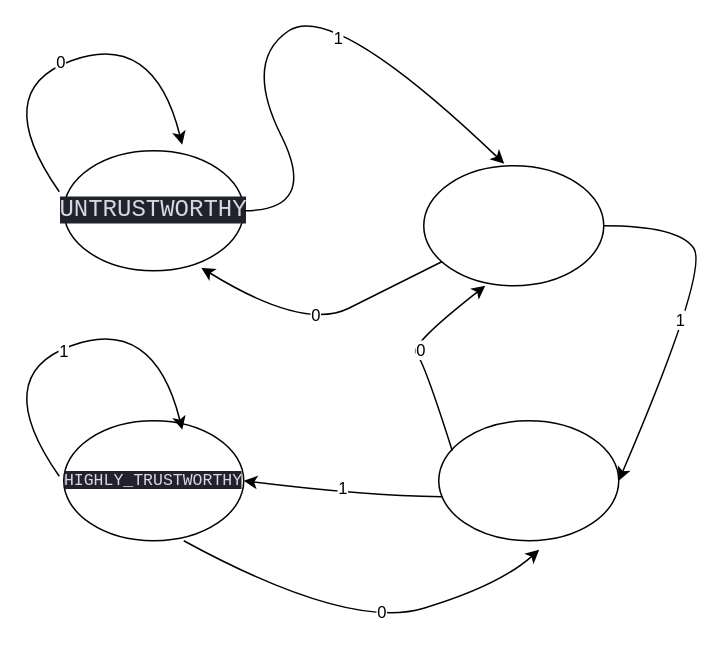
The diagram is 723 pixels wide and 648 high, and some of its shapes have lost their labels. The centre of each missing label's shape, as x and y in pixels:
"SUSPICIOUS" belongs at (x=513, y=225).
"TRUSTWORTHY" belongs at (x=528, y=480).
